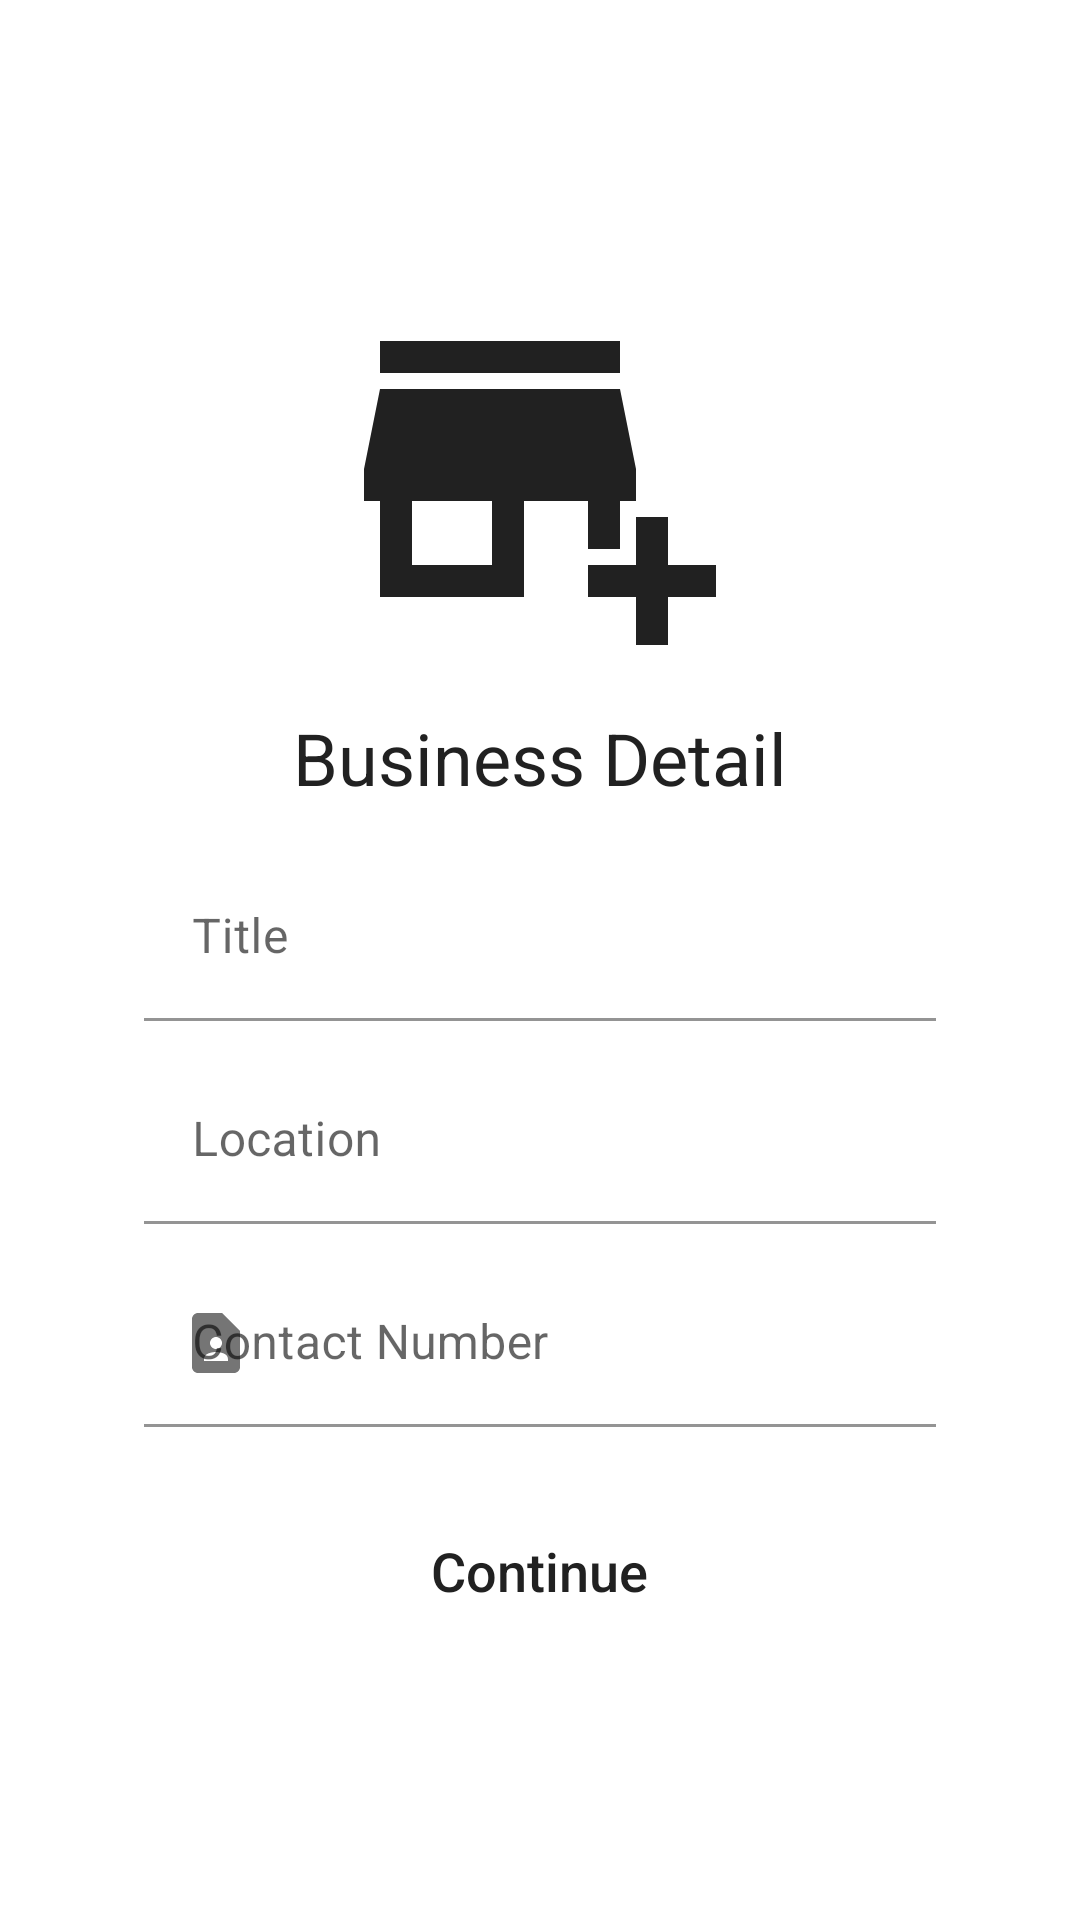

Where to tap for icons on this 1080x1920 app screen, as (x,y):
add business: (540,493)
